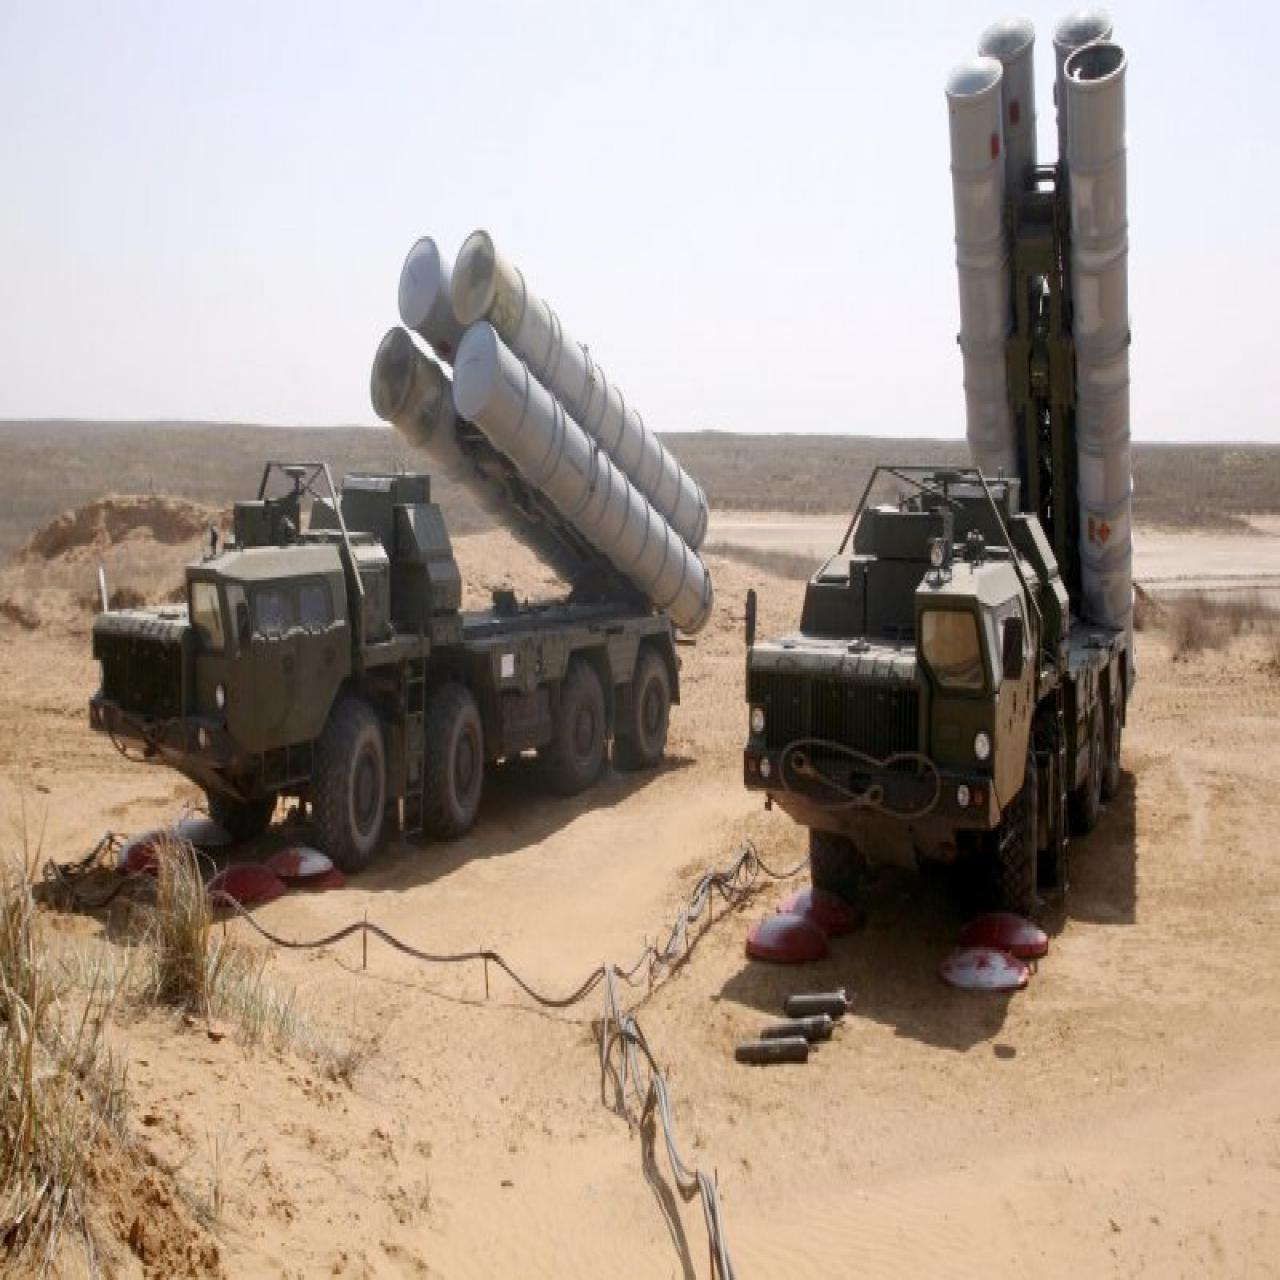MIL_Veh: (90, 230, 716, 862), (747, 11, 1141, 921)
